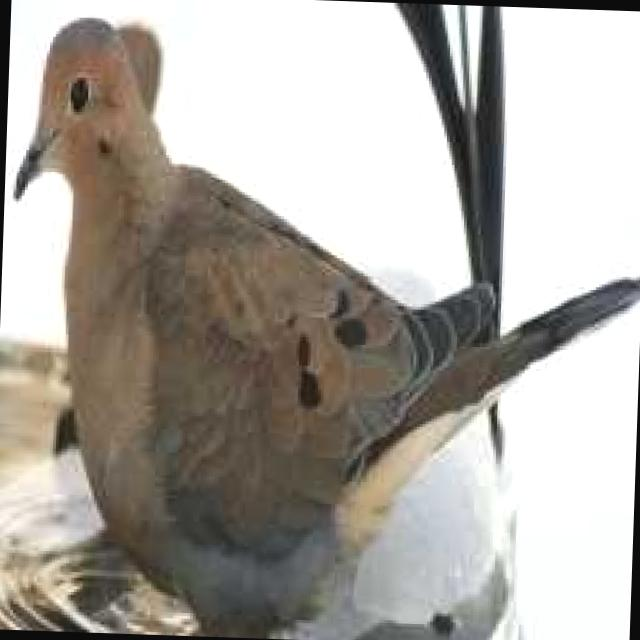bird: (1, 8, 640, 640)
